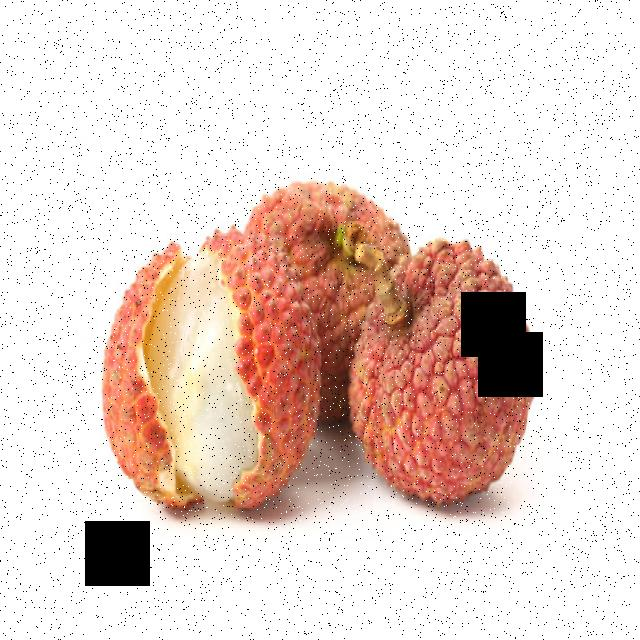lychee: (107, 171, 541, 527)
